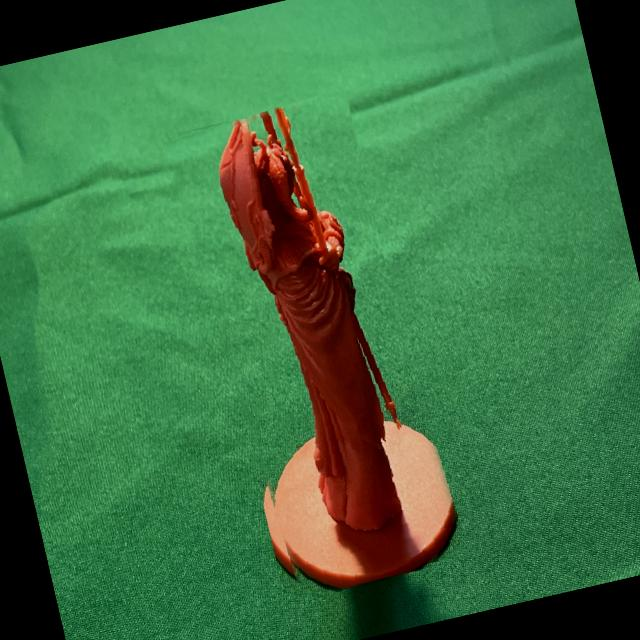amon: (168, 89, 462, 604)
